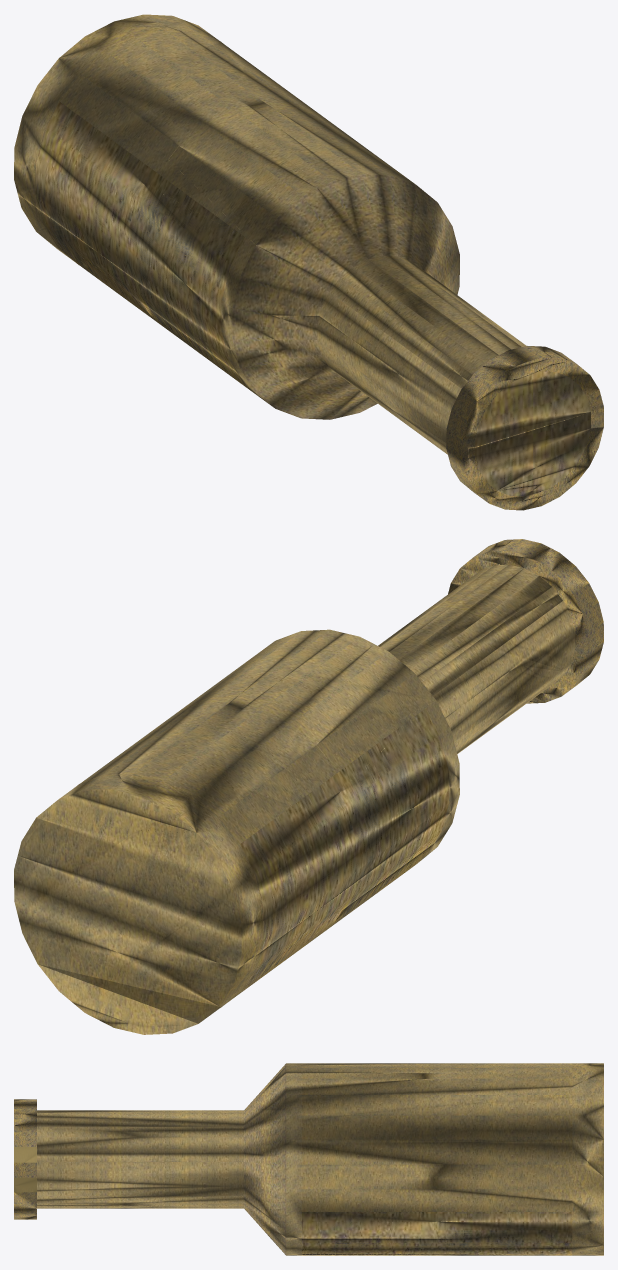
Rendered from model_align.obj.
3 renders of one model, top to bottom at view 1: azimuth 30°, elevation 25°; view 2: azimuth 150°, elevation 25°; view 3: azimuth 270°, elevation 25°, orthographic. The views are drawn at different scales.
Bounding box in the file's own units: 0.047 × 0.047 × 0.1446.
